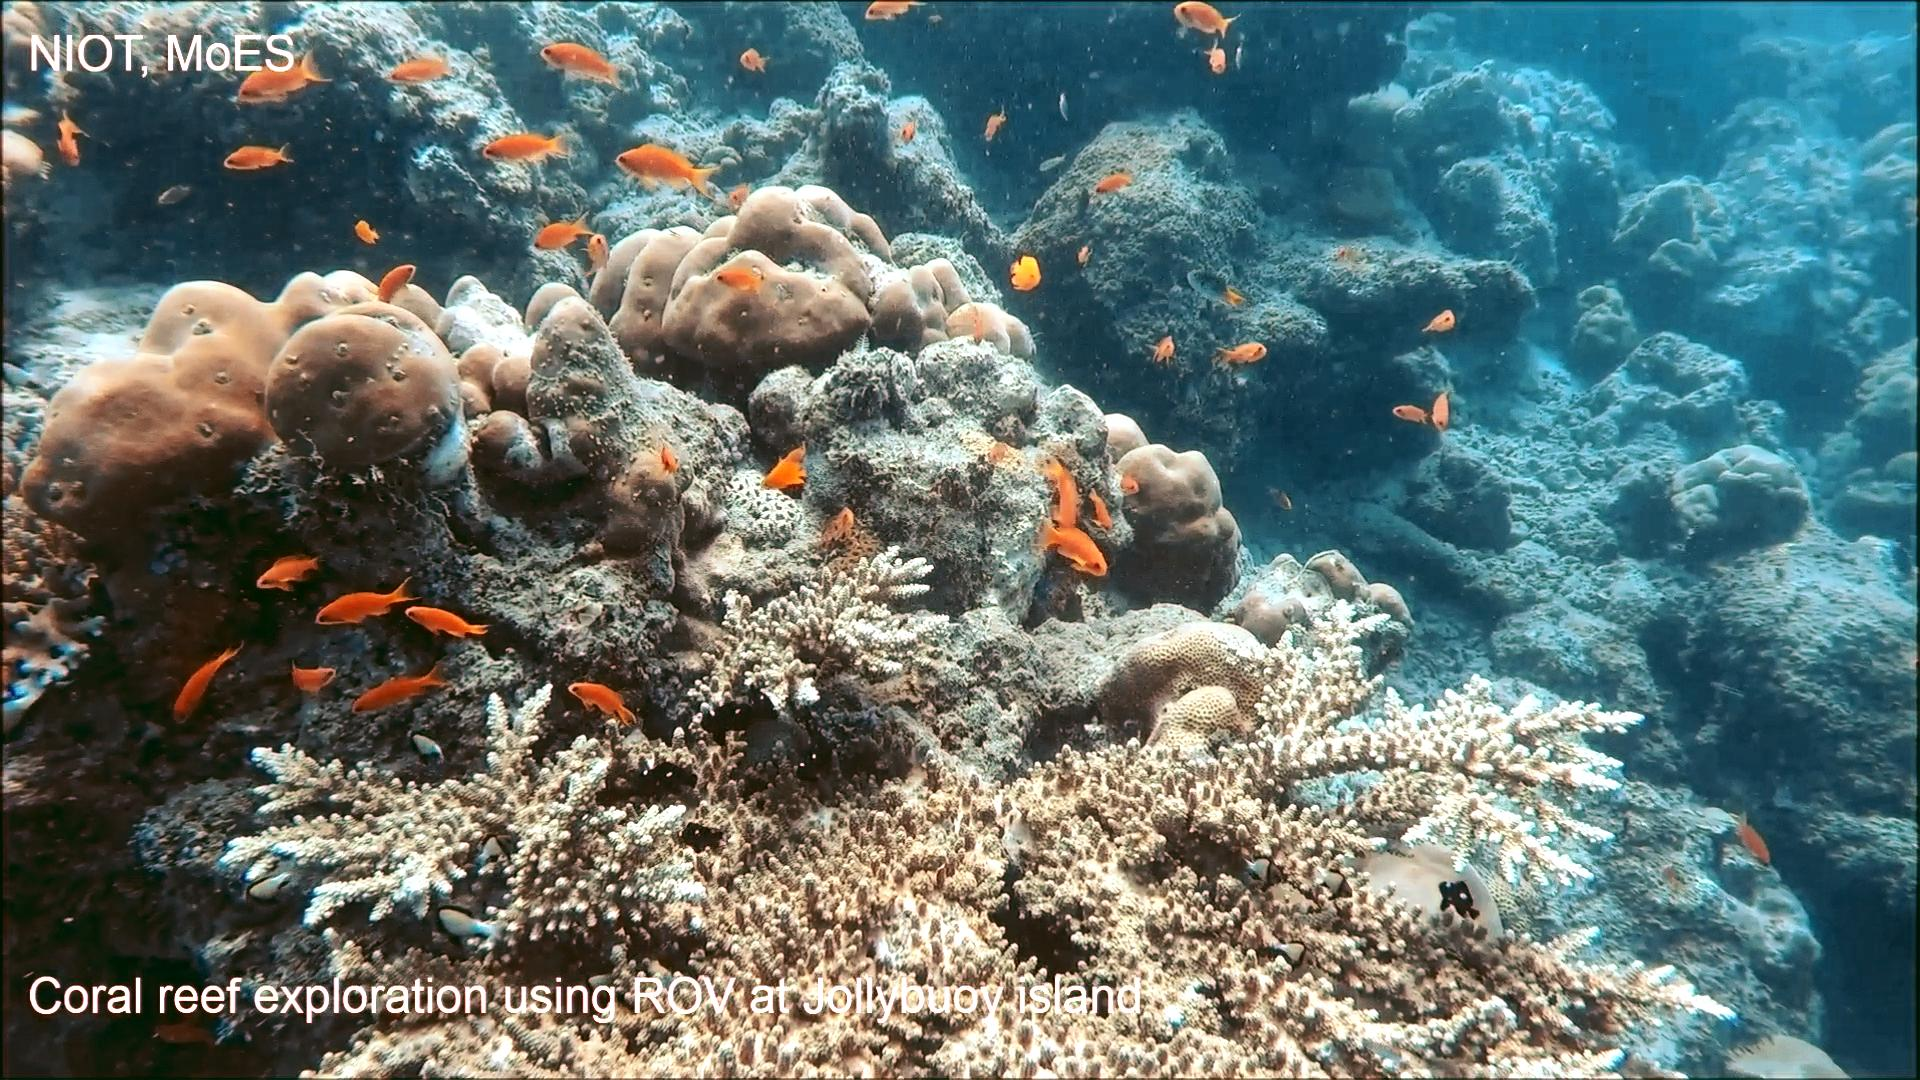Porites-Porites pukoensis: (15, 256, 469, 558), (553, 173, 1047, 389)
